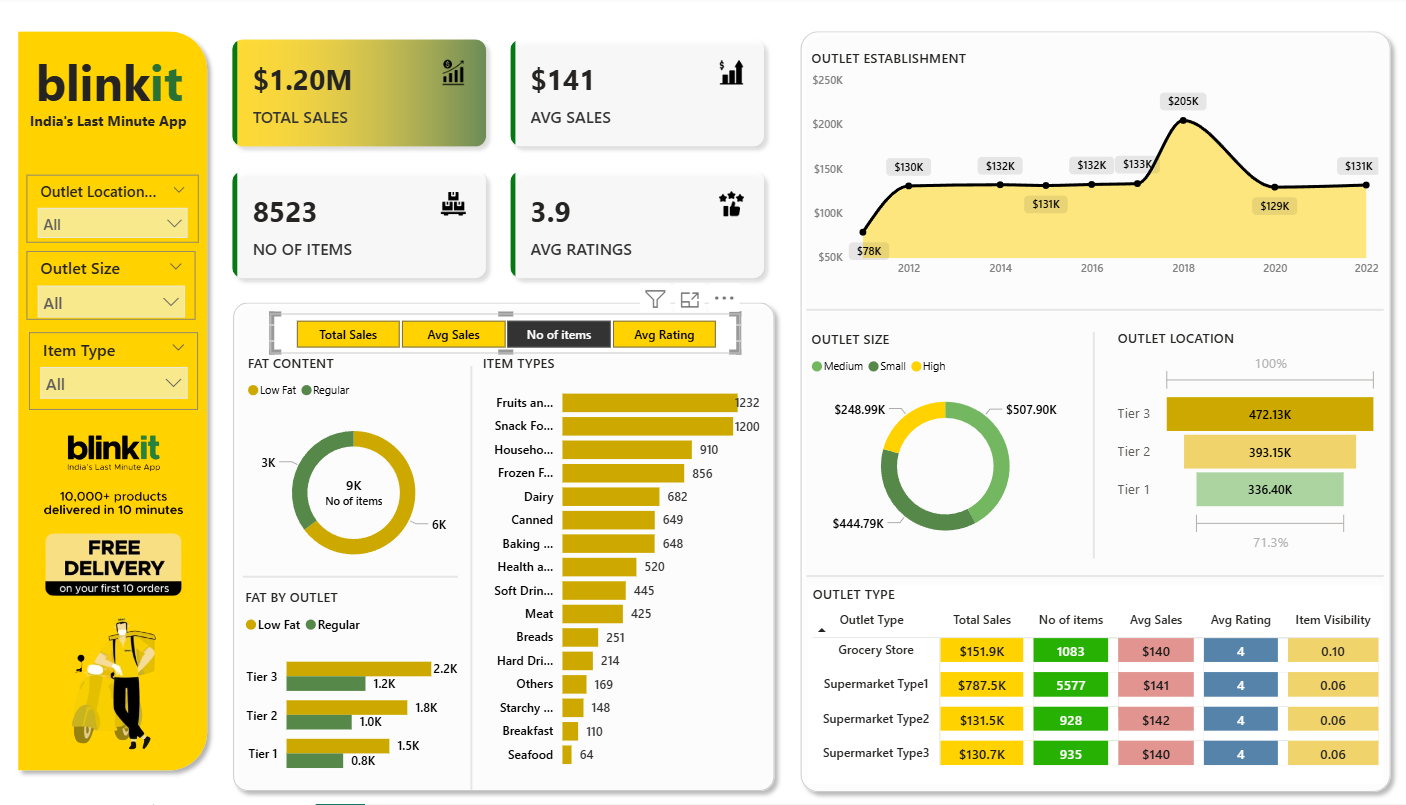

The dashboard page shown, as its layout file describes it:
{"tool":"powerbi","page":{"name":"Blinkit Overview","canvas":[1400,800],"ordinal":1},"visuals":[{"type":"shape","box":[9.4,25.5,205.1,749.3],"z":0},{"type":"textbox","box":[26.8,46.9,163.5,77.7],"z":1000},{"type":"textbox","box":[22.8,108.6,171.6,36.2],"z":2000},{"type":"cardVisual","fields":{"Data":["BlinkIT Grocery Data.Total Sales","BlinkIT Grocery Data.Avg Sales","BlinkIT Grocery Data.Number of items","BlinkIT Grocery Data.Avg Rating"]},"box":[214.5,25.5,561.7,270.8],"z":3000},{"type":"shape","box":[222.5,294.9,553.6,501.3],"z":4000},{"type":"donutChart","title":"FAT CONTENT","fields":{"Y":["BlinkIT Grocery Data.NO of items"],"Category":["BlinkIT Grocery Data.Item Fat Content"]},"box":[241.3,353.9,219.8,230.6],"z":5000},{"type":"slicer","fields":{"Values":[" Metrics. Metrics"]},"box":[268.1,313.7,465.1,40.2],"z":6000},{"type":"cardVisual","fields":{"Data":["BlinkIT Grocery Data.NO of items"]},"box":[300.3,457.1,101.9,59],"z":7000},{"type":"clusteredBarChart","title":"FAT BY OUTLET","fields":{"Y":["BlinkIT Grocery Data.NO of items"],"Category":["BlinkIT Grocery Data.Outlet Location Type"],"Series":["BlinkIT Grocery Data.Item Fat Content"]},"box":[239.1,585,220,200.9],"z":8000},{"type":"shape","box":[241.3,565.7,213.1,18.8],"z":9000},{"type":"shape","box":[461.1,366,12.1,419.6],"z":10000},{"type":"barChart","title":"ITEM TYPES","fields":{"Y":["BlinkIT Grocery Data.NO of items"],"Category":["BlinkIT Grocery Data.Item Type"]},"box":[473.2,353.9,284.2,420.9],"z":11000},{"type":"shape","box":[784.2,25.5,601.9,770.8],"z":12000},{"type":"lineChart","title":"OUTLET ESTABLISHMENT ","fields":{"Category":["BlinkIT Grocery Data.Outlet Establishment Year"],"Y":["BlinkIT Grocery Data.Total Sales"]},"box":[798.9,52.3,571,234.6],"z":13000},{"type":"shape","box":[798.7,301.6,571,17.4],"z":14000},{"type":"donutChart","title":"OUTLET SIZE ","fields":{"Y":["BlinkIT Grocery Data.Total Sales"],"Category":["BlinkIT Grocery Data.Outlet Size"]},"box":[798.7,330,275,225],"z":15000},{"type":"shape","box":[1077.5,332.7,12.1,223.9],"z":16000},{"type":"funnel","title":"OUTLET LOCATION","fields":{"Y":["Sum(BlinkIT Grocery Data.Sales)"],"Category":["BlinkIT Grocery Data.Outlet Location Type"]},"box":[1101.6,328.7,268.1,226.5],"z":17000},{"type":"shape","box":[798.9,565.7,571,17.4],"z":18000},{"type":"pivotTable","title":"OUTLET TYPE","fields":{"Rows":["BlinkIT Grocery Data.Outlet Type"],"Values":["BlinkIT Grocery Data.Total Sales","BlinkIT Grocery Data.NO of items","BlinkIT Grocery Data.Avg Sales","BlinkIT Grocery Data.Avg Rating","Avg(BlinkIT Grocery Data.Item Visibility)"]},"box":[800.3,583.1,569.7,197.1],"z":19000},{"type":"slicer","fields":{"Values":["BlinkIT Grocery Data.Outlet Location Type"]},"box":[26.8,176.9,170.2,67],"z":20000},{"type":"slicer","fields":{"Values":["BlinkIT Grocery Data.Outlet Size"]},"box":[27.2,252.3,170.7,76.7],"z":21000},{"type":"slicer","fields":{"Values":["BlinkIT Grocery Data.Item Type"]},"box":[29.5,332.4,167.6,76.4],"z":22000},{"type":"image","box":[29.7,420.5,167,335.2],"z":23000}]}

Visuals, with their boxes in screenshot pixels (x1, y1, x2, y2), scaled from the page's 1400x800 canvas onto the 1406x805 screenshot:
shape: crop(9, 26, 215, 780)
textbox: crop(27, 47, 191, 125)
textbox: crop(23, 109, 195, 146)
cardVisual - BlinkIT Grocery Data.Total Sales x BlinkIT Grocery Data.Avg Sales: crop(215, 26, 780, 298)
shape: crop(223, 297, 779, 801)
"FAT CONTENT" donutChart: crop(242, 356, 463, 588)
slicer -  Metrics. Metrics: crop(269, 316, 736, 356)
cardVisual - BlinkIT Grocery Data.NO of items: crop(302, 460, 404, 519)
"FAT BY OUTLET" clusteredBarChart: crop(240, 589, 461, 791)
shape: crop(242, 569, 456, 588)
shape: crop(463, 368, 475, 791)
"ITEM TYPES" barChart: crop(475, 356, 761, 780)
shape: crop(788, 26, 1392, 801)
"OUTLET ESTABLISHMENT " lineChart: crop(802, 53, 1376, 289)
shape: crop(802, 303, 1376, 321)
"OUTLET SIZE " donutChart: crop(802, 332, 1078, 558)
shape: crop(1082, 335, 1094, 560)
"OUTLET LOCATION" funnel: crop(1106, 331, 1376, 559)
shape: crop(802, 569, 1376, 587)
"OUTLET TYPE" pivotTable: crop(804, 587, 1376, 785)
slicer - BlinkIT Grocery Data.Outlet Location Type: crop(27, 178, 198, 245)
slicer - BlinkIT Grocery Data.Outlet Size: crop(27, 254, 199, 331)
slicer - BlinkIT Grocery Data.Item Type: crop(30, 334, 198, 411)
image: crop(30, 423, 198, 760)
